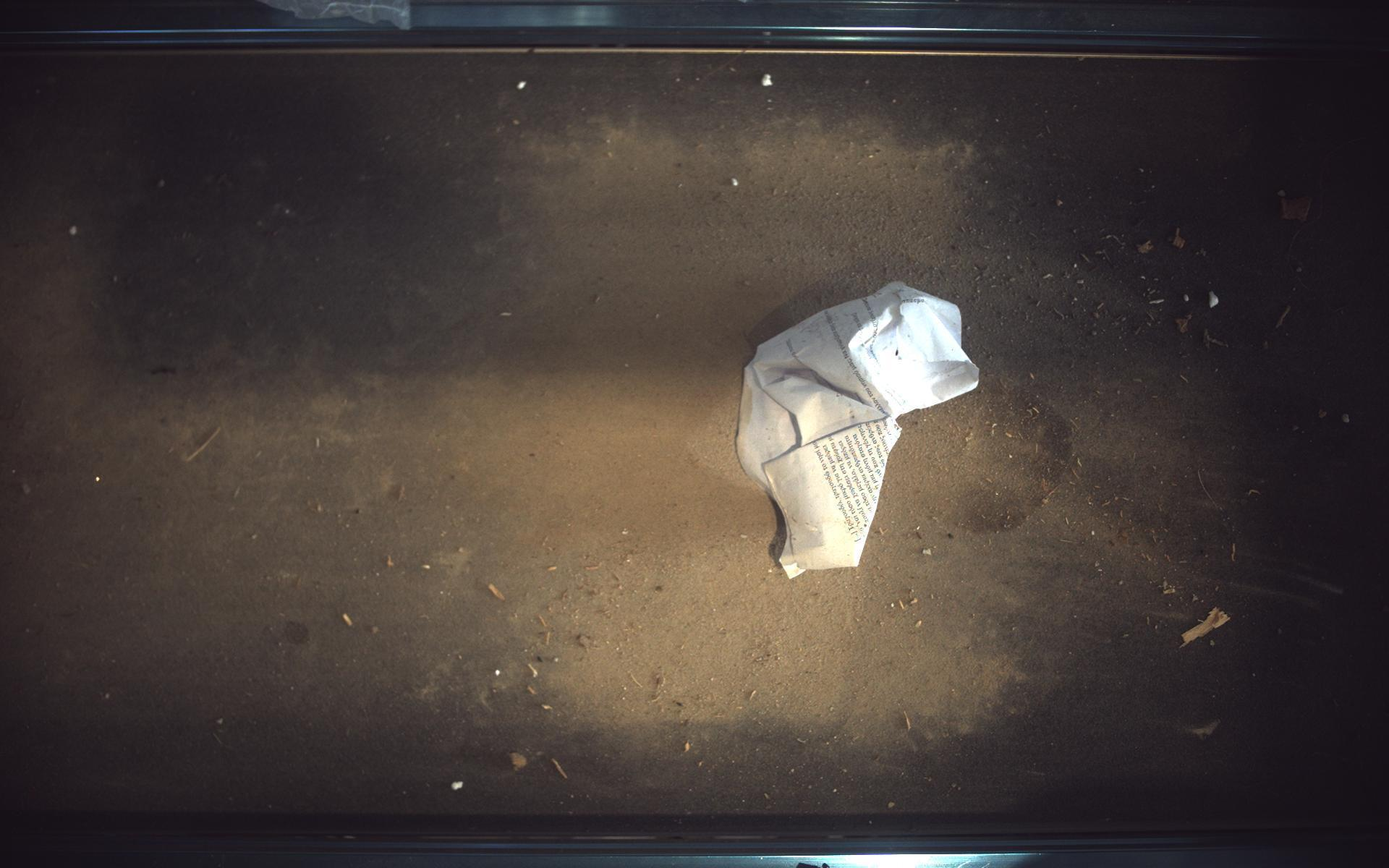general_w: (737, 281, 981, 578)
